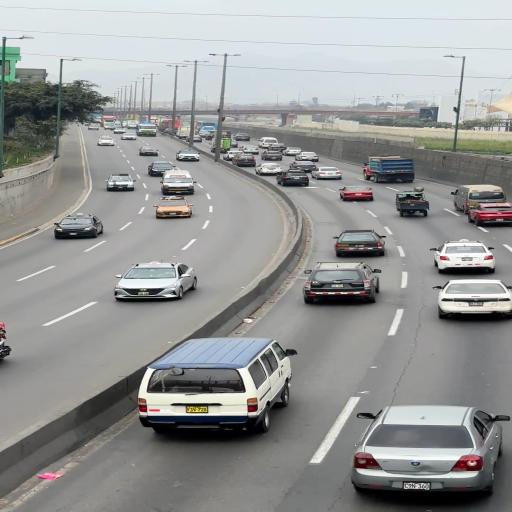auto: (347, 404, 502, 492), (138, 357, 274, 430), (113, 261, 198, 301), (300, 261, 378, 304), (433, 278, 512, 319), (431, 239, 498, 272), (452, 184, 506, 214), (331, 229, 386, 256), (52, 213, 103, 238), (153, 196, 194, 218), (159, 176, 196, 195), (104, 173, 136, 192), (338, 186, 373, 201), (276, 172, 309, 186), (147, 161, 176, 176), (311, 166, 342, 180), (254, 162, 283, 176), (288, 160, 316, 172), (232, 155, 258, 167), (222, 150, 246, 161), (296, 152, 320, 162), (260, 150, 283, 160), (176, 152, 200, 161), (138, 146, 159, 156), (268, 143, 288, 153), (198, 129, 215, 140), (242, 145, 260, 155), (96, 137, 114, 146), (284, 147, 302, 156), (120, 132, 137, 140), (234, 133, 250, 141), (120, 127, 135, 134), (218, 131, 231, 139), (113, 127, 127, 134), (258, 142, 271, 148), (88, 124, 99, 130), (99, 133, 112, 138)
bus: (158, 119, 182, 134), (136, 122, 158, 136), (199, 122, 217, 132), (102, 120, 115, 130), (126, 119, 138, 129)
camion: (362, 154, 416, 184), (206, 130, 233, 153), (176, 126, 195, 139)
